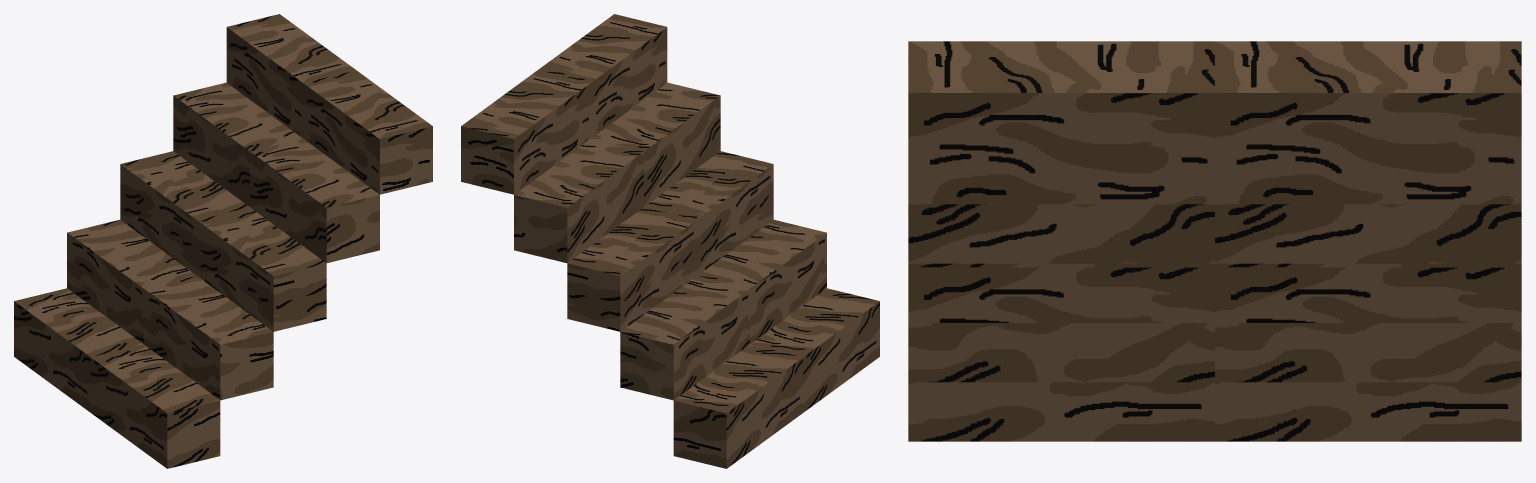
Rendered from stairs.glb.
3 views of the same model, side by side, from view 1: azimuth 30°, elevation 25°; view 2: azimuth 150°, elevation 25°; view 3: azimuth 270°, elevation 25° (orthographic). The views are drawn at different scales.
Parts seen in each view (by area): view 1: Cube; view 2: Cube; view 3: Cube.
Boxes of the visible parts, x1,y1,x2,y2 form: Cube: (14, 14, 432, 468); Cube: (461, 14, 879, 468); Cube: (908, 41, 1521, 441).
Bounding box in the file's own units: 2 × 2 × 2.
1 material, 1 textured.
